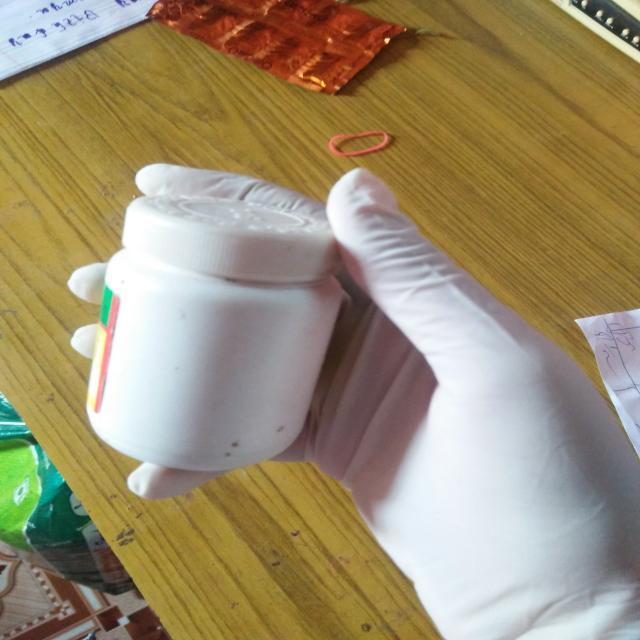glove_hand: (68, 163, 638, 640)
